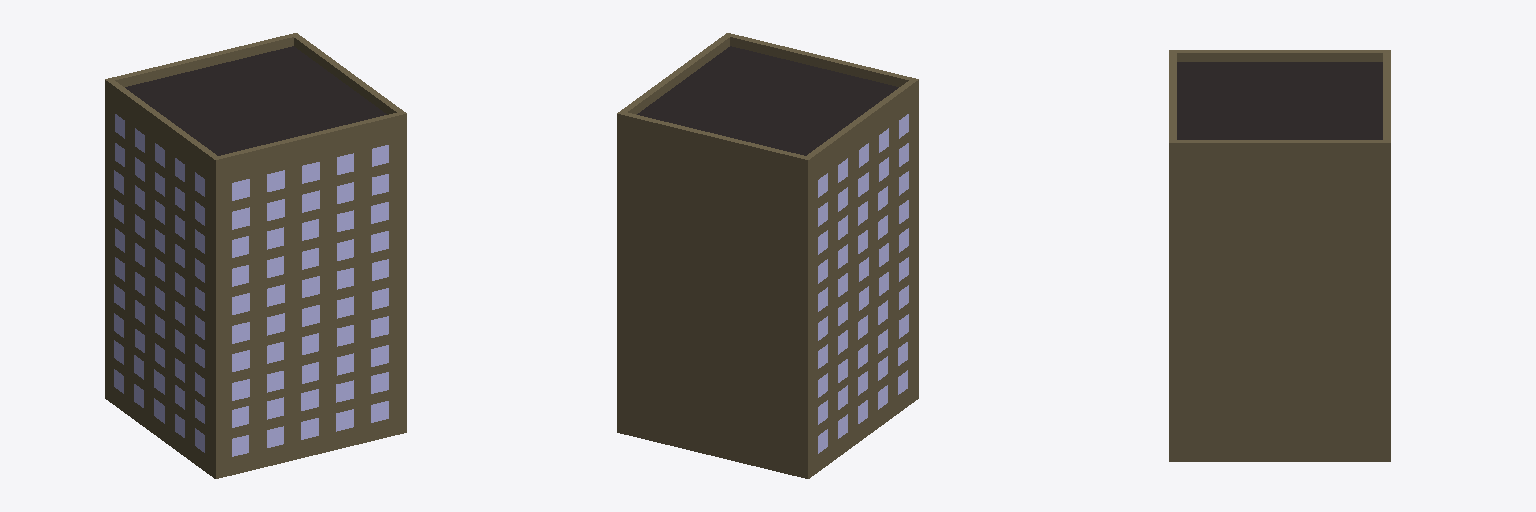
The model's file is highrise_13.obj.
3 views of the same model, side by side, from view 1: azimuth 30°, elevation 25°; view 2: azimuth 150°, elevation 25°; view 3: azimuth 270°, elevation 25° (orthographic).
Parts seen in each view (by area): view 1: Mesh1 Model; view 2: Mesh1 Model; view 3: Mesh1 Model.
Part boxes in pixels (left/top/right/bottom): Mesh1 Model: left=105, top=33, right=406, bottom=478; Mesh1 Model: left=617, top=33, right=918, bottom=478; Mesh1 Model: left=1169, top=50, right=1390, bottom=461.
Size of the model in its own units: 22 by 35 by 22.